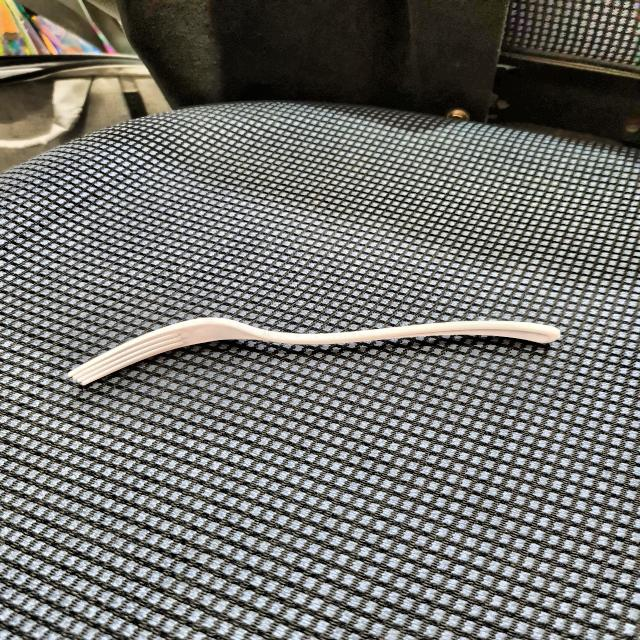plastic utensil: (68, 311, 574, 391)
